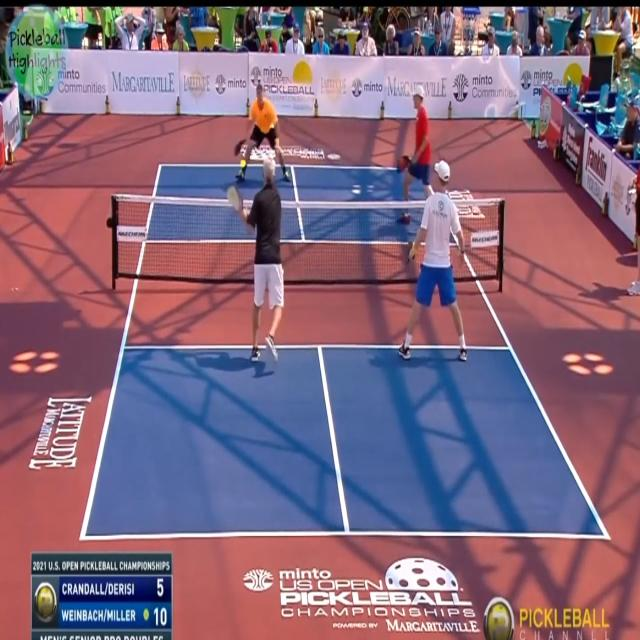ball: (238, 153, 251, 174)
